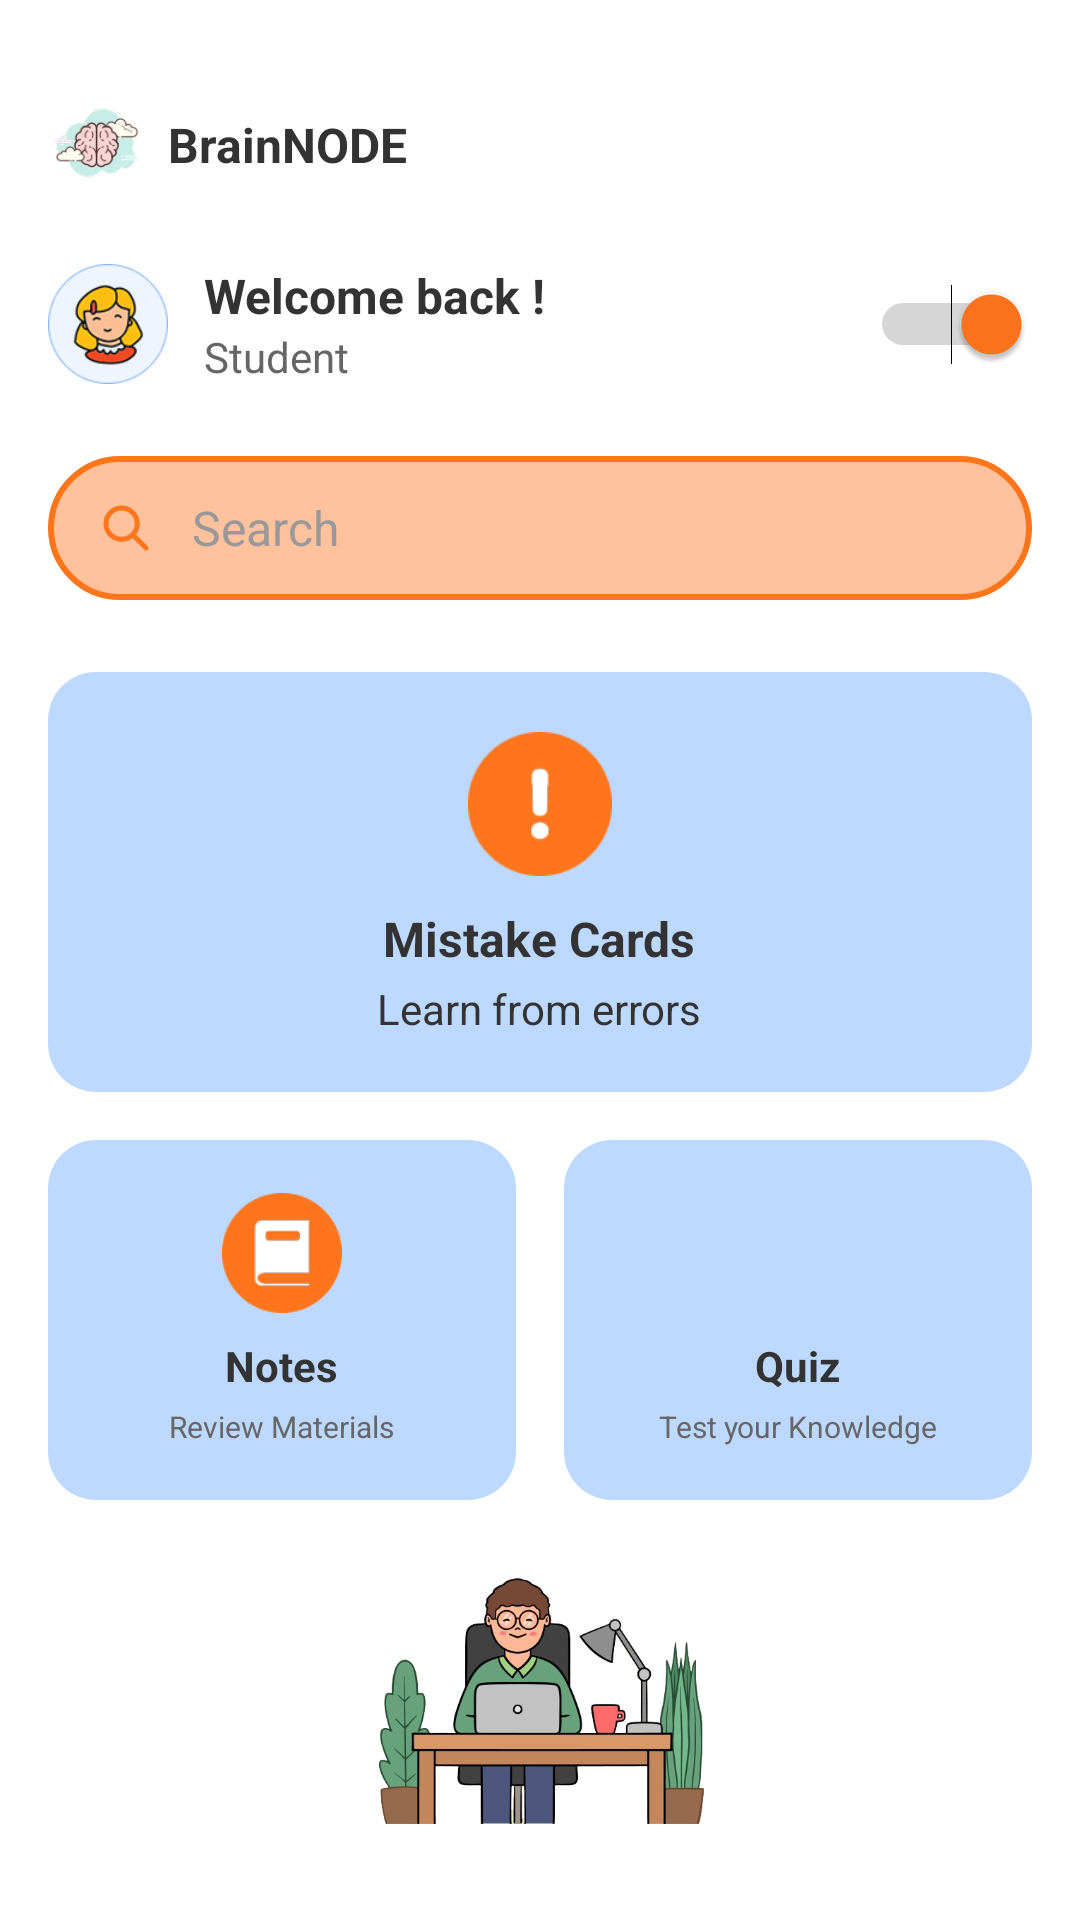

Named icons in this screenshot (1080 x 1920) and their bounding boxes, (x1, y1, x2, y2):
home illustration: (379, 1578, 704, 1824)
user profile picture girl: (48, 264, 168, 384)
